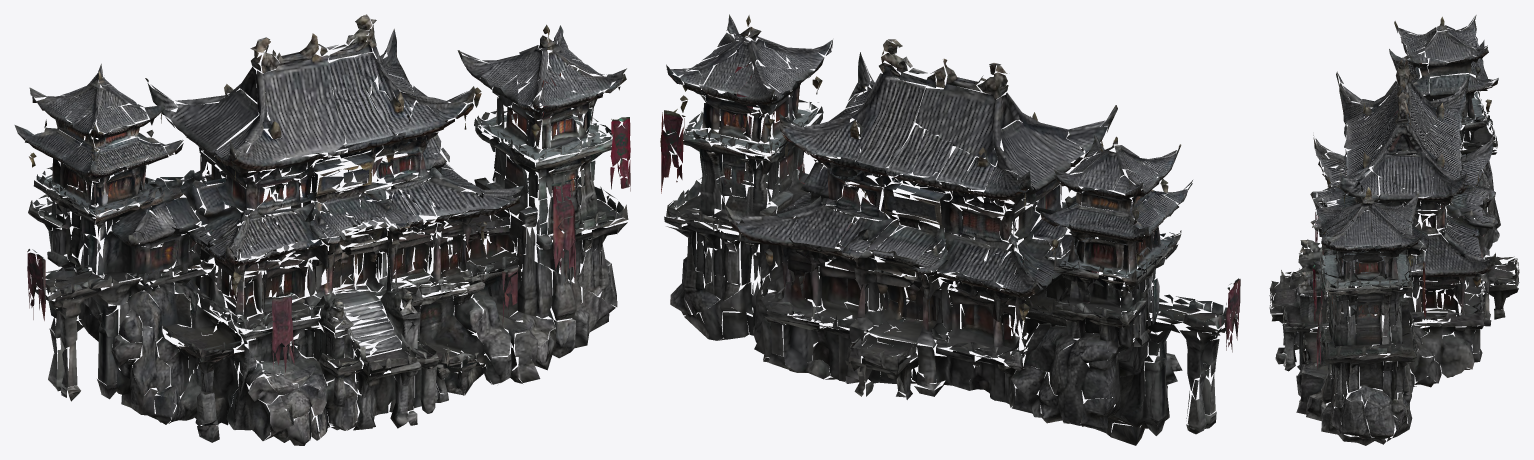
The model's file is cliff-pagoda.glb.
3 renders of one model, left to right at view 1: azimuth 30°, elevation 25°; view 2: azimuth 150°, elevation 25°; view 3: azimuth 270°, elevation 25°, orthographic. The views are drawn at different scales.
Parts seen in each view (by area): view 1: tripo_node_28b47406-5e23-4060-94a9-d7017ef42e1b; view 2: tripo_node_28b47406-5e23-4060-94a9-d7017ef42e1b; view 3: tripo_node_28b47406-5e23-4060-94a9-d7017ef42e1b.
Boxes of the visible parts, box(x1,y1,x2,y2) form: tripo_node_28b47406-5e23-4060-94a9-d7017ef42e1b: box(14, 14, 630, 445); tripo_node_28b47406-5e23-4060-94a9-d7017ef42e1b: box(660, 14, 1240, 445); tripo_node_28b47406-5e23-4060-94a9-d7017ef42e1b: box(1269, 15, 1519, 445).
Size of the model in its own units: 0.9798 by 0.5904 by 0.478.
1 material, 1 textured.
